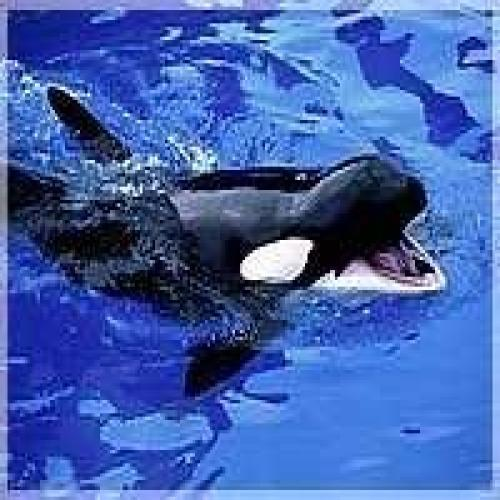killer_whale-endangered: (32, 100, 448, 336)
